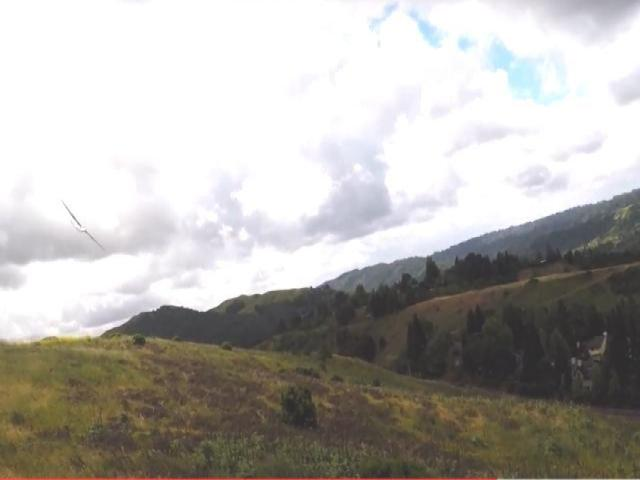iha: (60, 196, 101, 246)
